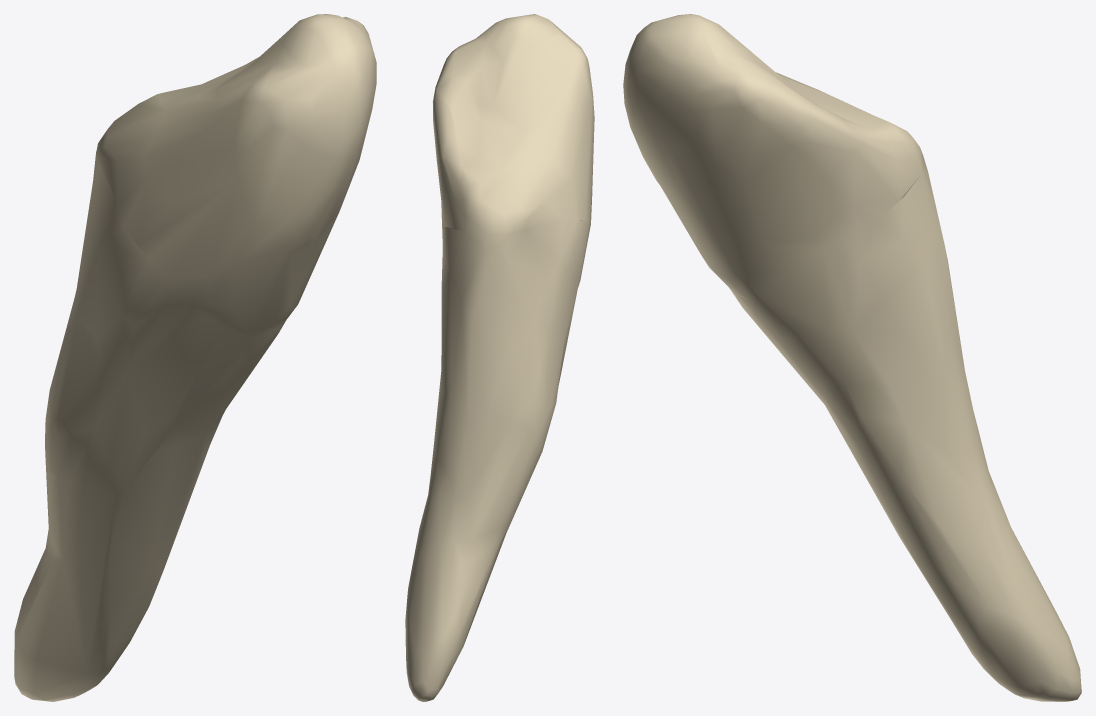
File: esqueleto-lower-canine-l.glb
3 views of the same model, side by side, from view 1: azimuth 30°, elevation 25°; view 2: azimuth 150°, elevation 25°; view 3: azimuth 270°, elevation 25° (orthographic). The views are drawn at different scales.
Parts seen in each view (by area): view 1: Lower canine.l; view 2: Lower canine.l; view 3: Lower canine.l.
Part boxes in pixels (x1,y1,x2,y2): Lower canine.l: (14, 14, 376, 701); Lower canine.l: (405, 14, 594, 701); Lower canine.l: (623, 14, 1081, 701).
Bounding box in the file's own units: 0.00769 × 0.0262 × 0.0152.
